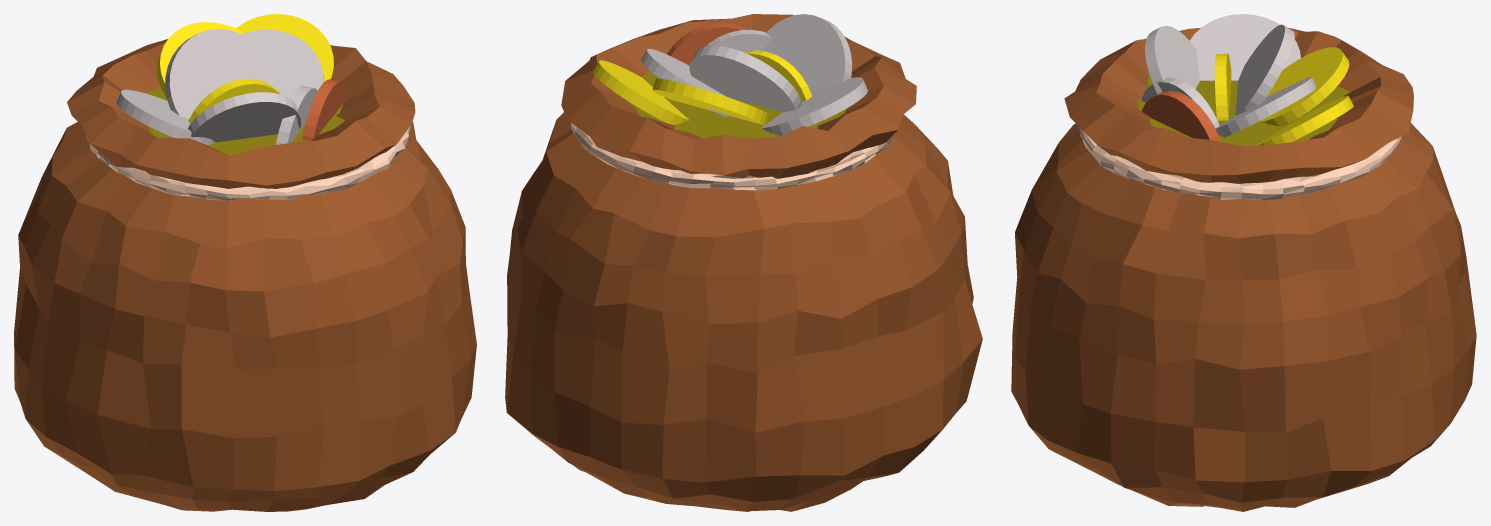
File: loot.fbx
3 renders of one model, left to right at view 1: azimuth 30°, elevation 25°; view 2: azimuth 150°, elevation 25°; view 3: azimuth 270°, elevation 25°, orthographic. The views are drawn at different scales.
Parts seen in each view (by area): view 1: Torus.001; view 2: Torus.001; view 3: Torus.001.
Part boxes in pixels (x1=…): Torus.001: x1=14, y1=14, x2=476, y2=511; Torus.001: x1=505, y1=14, x2=982, y2=511; Torus.001: x1=1011, y1=14, x2=1476, y2=511.
Bounding box in the file's own units: 189 × 197 × 188.
